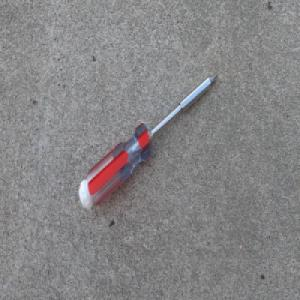Screwdriver: (77, 71, 219, 212)
